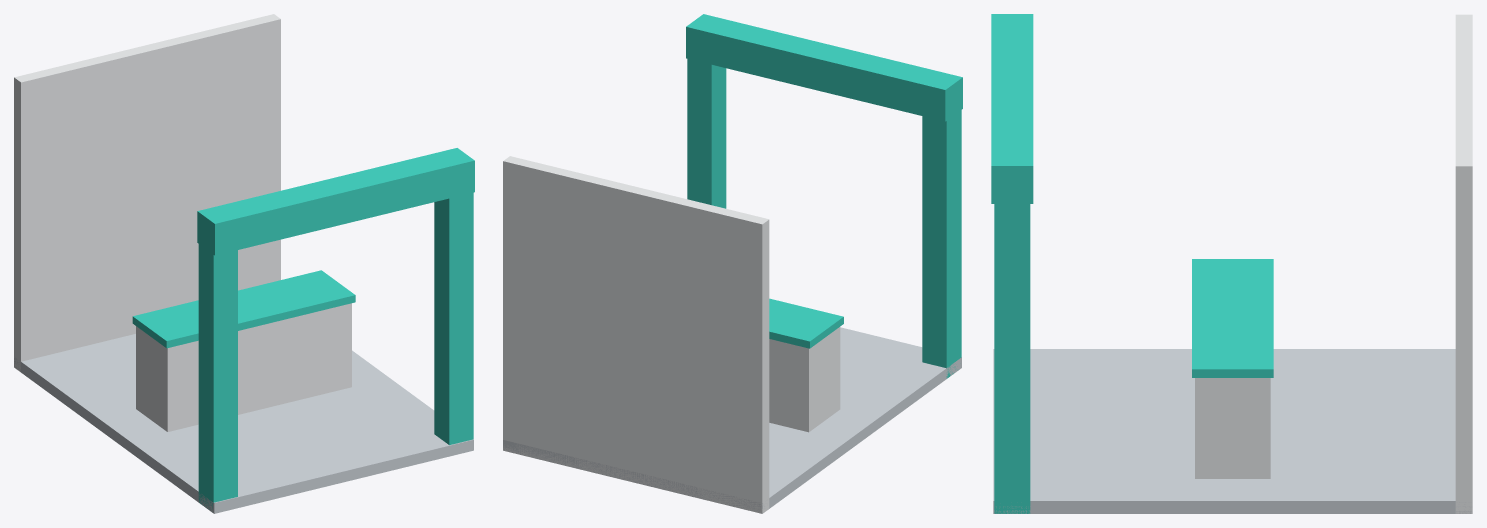
3 renders of one model, left to right at view 1: azimuth 30°, elevation 25°; view 2: azimuth 150°, elevation 25°; view 3: azimuth 270°, elevation 25°, orthographic. The views are drawn at different scales.
Visible parts, largest first — view 1: Exhibition Booth Concept; view 2: Exhibition Booth Concept; view 3: Exhibition Booth Concept.
Boxes of the visible parts, x1,y1,x2,y2 form: Exhibition Booth Concept: (14,14,474,513); Exhibition Booth Concept: (503,14,962,513); Exhibition Booth Concept: (991,14,1472,513).
Size of the model in its own units: 3 by 3.2 by 4.02.
